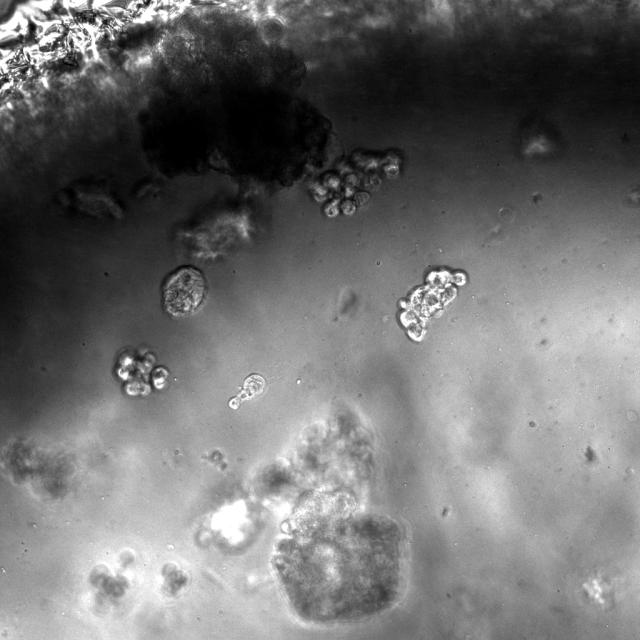organoid: (196, 407, 407, 624), (138, 8, 330, 186), (175, 192, 268, 262), (308, 149, 402, 218), (398, 268, 466, 341), (0, 437, 79, 499), (114, 344, 170, 396), (89, 549, 134, 611), (162, 266, 206, 317), (229, 374, 266, 410), (162, 563, 188, 596), (202, 449, 226, 468)
